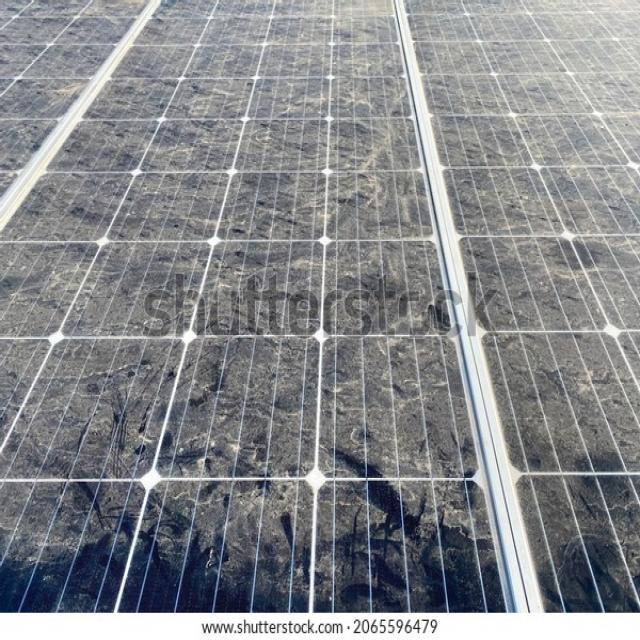dust-solar-panel: (0, 2, 640, 612)
